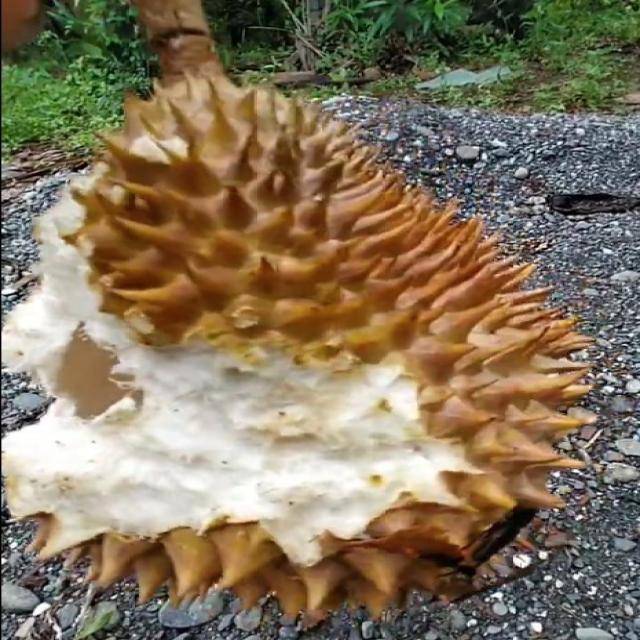defective: (6, 81, 603, 628)
